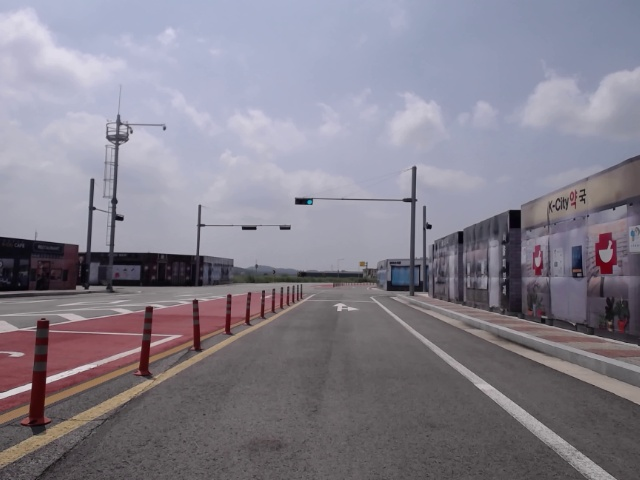green_3: (295, 198, 314, 206)
